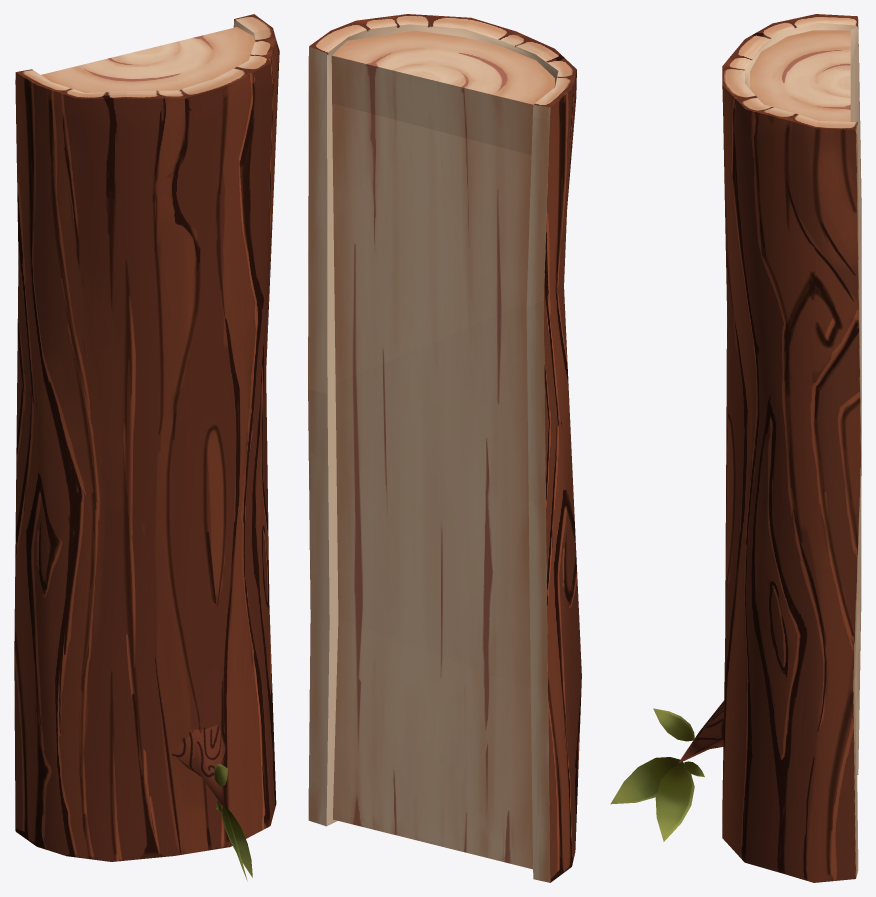
File: log.glb
3 renders of one model, left to right at view 1: azimuth 30°, elevation 25°; view 2: azimuth 150°, elevation 25°; view 3: azimuth 270°, elevation 25°, orthographic. The views are drawn at different scales.
Parts seen in each view (by area): view 1: SM_Buche; view 2: SM_Buche; view 3: SM_Buche.
Boxes of the visible parts, bbox=[...] form: SM_Buche: bbox=[14, 14, 279, 881]; SM_Buche: bbox=[308, 14, 581, 882]; SM_Buche: bbox=[610, 14, 861, 882].
Bounding box in the file's own units: 0.3224 × 1 × 0.2984.
Materials: 1 (1 with a texture image).
